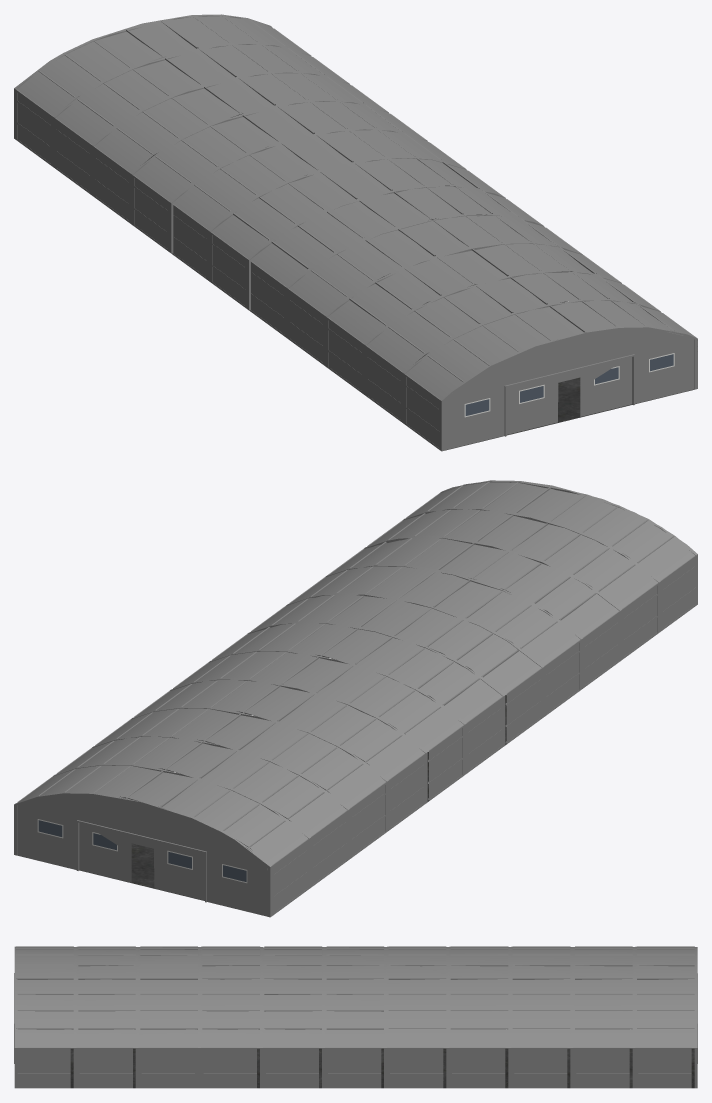
The model's file is warehouse.windows-v1.lod1.glb.
3 renders of one model, top to bottom at view 1: azimuth 30°, elevation 25°; view 2: azimuth 150°, elevation 25°; view 3: azimuth 270°, elevation 25°, orthographic. The views are drawn at different scales.
Visible parts, largest first — view 1: NurbsPath.005_Metal_0, Window glass and frames, NurbsPath.005_WetConcrete_0; view 2: NurbsPath.005_Metal_0, NurbsPath.005_WetConcrete_0, Window glass and frames; view 3: NurbsPath.005_Metal_0, NurbsPath.005_WetConcrete_0.
Part boxes in pixels (x1,y1,x2,y2): NurbsPath.005_Metal_0: [14, 14, 697, 451]; Window glass and frames: [464, 353, 674, 417]; NurbsPath.005_WetConcrete_0: [145, 113, 694, 450]; NurbsPath.005_Metal_0: [14, 480, 697, 917]; NurbsPath.005_WetConcrete_0: [79, 578, 591, 900]; Window glass and frames: [37, 819, 247, 883]; NurbsPath.005_Metal_0: [14, 946, 697, 1088]; NurbsPath.005_WetConcrete_0: [70, 1048, 694, 1088].
Size of the model in its own units: 16 by 5.02 by 46.27.
Materials: 4 (1 with a texture image).
